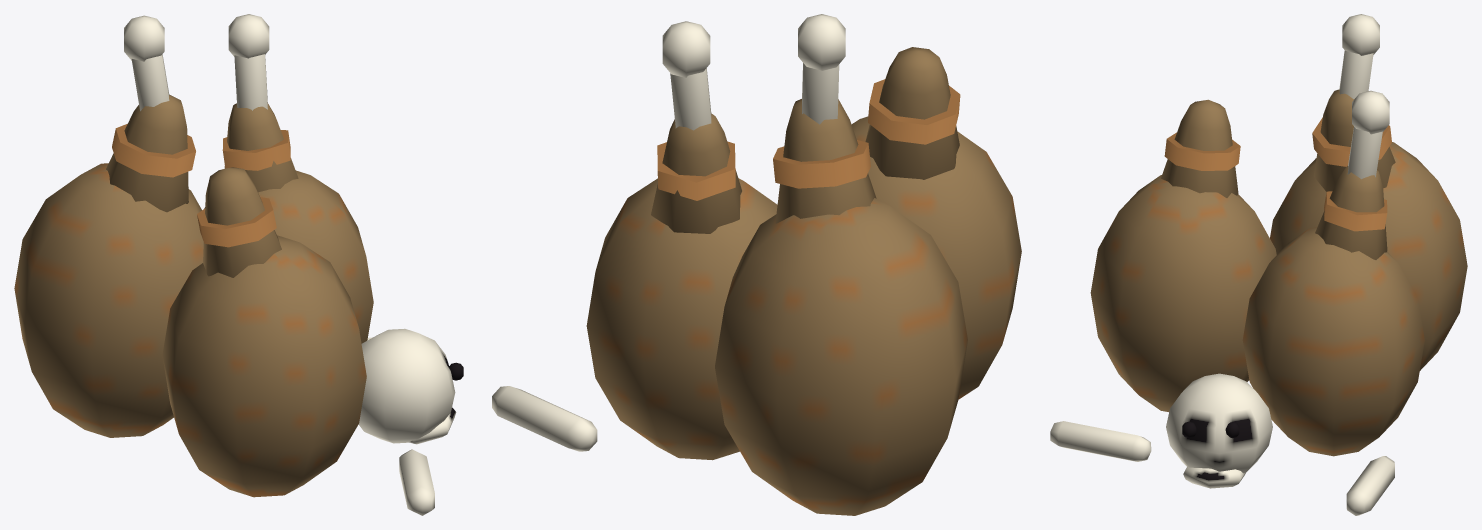
File: prop_sacks5_f043.glb
3 renders of one model, left to right at view 1: azimuth 30°, elevation 25°; view 2: azimuth 150°, elevation 25°; view 3: azimuth 270°, elevation 25°, orthographic. The views are drawn at different scales.
Parts seen in each view (by area): view 1: prop_sacks5_f043; view 2: prop_sacks5_f043; view 3: prop_sacks5_f043.
Part boxes in pixels (x1,y1,x2,y2): prop_sacks5_f043: [14, 14, 463, 515]; prop_sacks5_f043: [492, 14, 1021, 515]; prop_sacks5_f043: [1050, 14, 1467, 515].
Size of the model in its own units: 1.15 by 1.14 by 1.13.
Materials: 1 (1 with a texture image).
